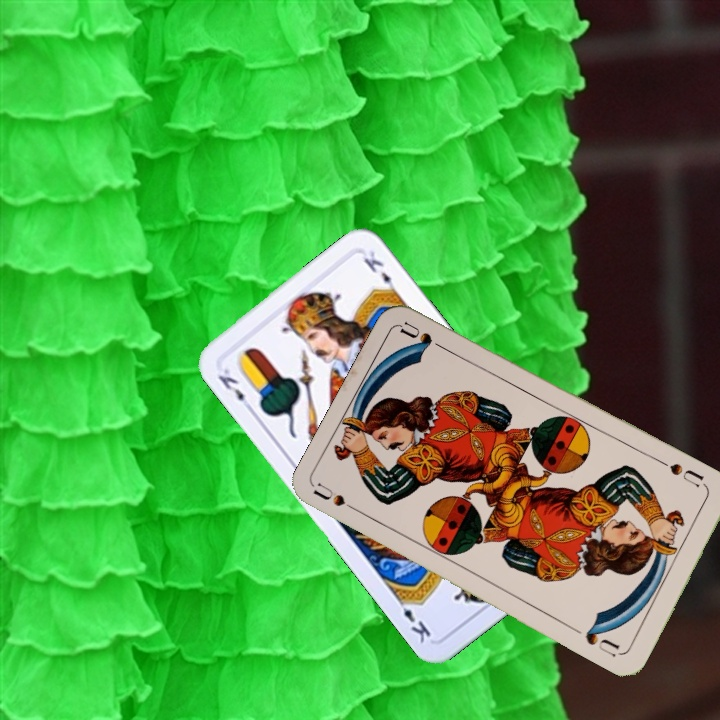EK: (213, 364, 256, 414)
SU: (311, 479, 367, 518), (665, 459, 707, 490)
